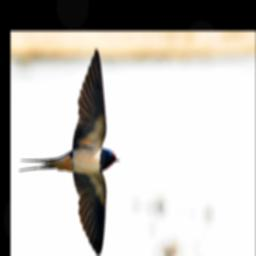Swallow: (17, 45, 120, 256)
